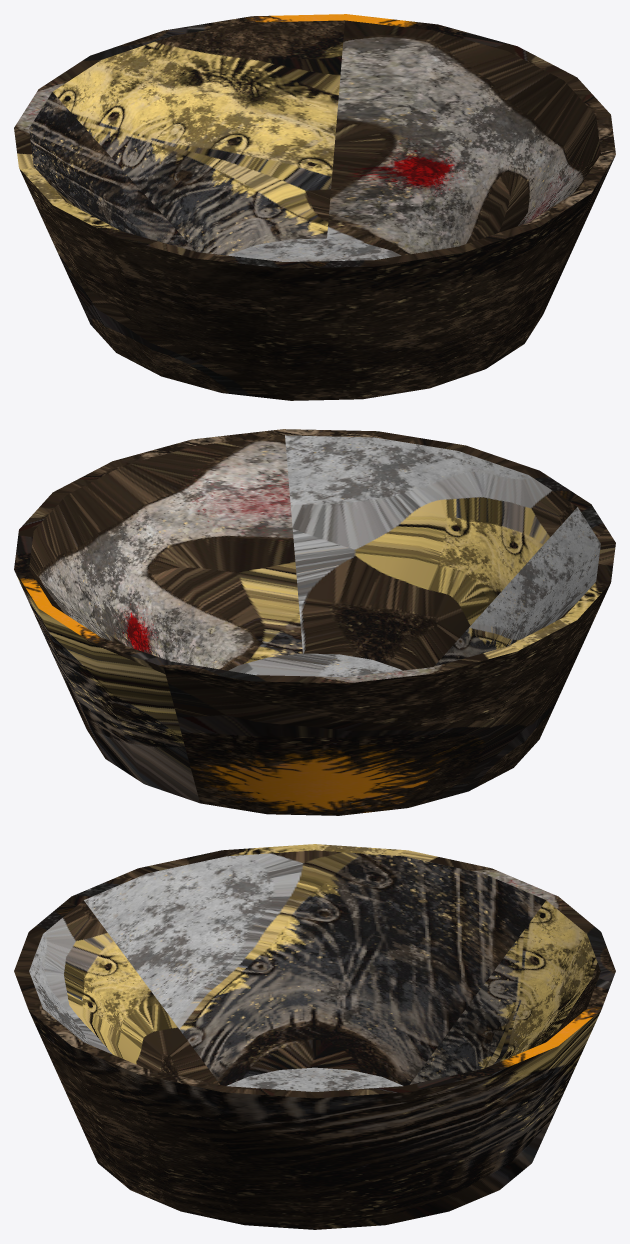
The model's file is fire_tub.fbx.
3 views of the same model, one above another, from view 1: azimuth 30°, elevation 25°; view 2: azimuth 150°, elevation 25°; view 3: azimuth 270°, elevation 25° (orthographic).
Parts seen in each view (by area): view 1: fire_tub; view 2: fire_tub; view 3: fire_tub.
Part boxes in pixels (<box>): fire_tub: <box>14,14,615,400</box>; fire_tub: <box>14,429,615,815</box>; fire_tub: <box>14,844,615,1229</box>.
Size of the model in its own units: 17.13 by 5.09 by 17.13.
1 material, 1 textured.
